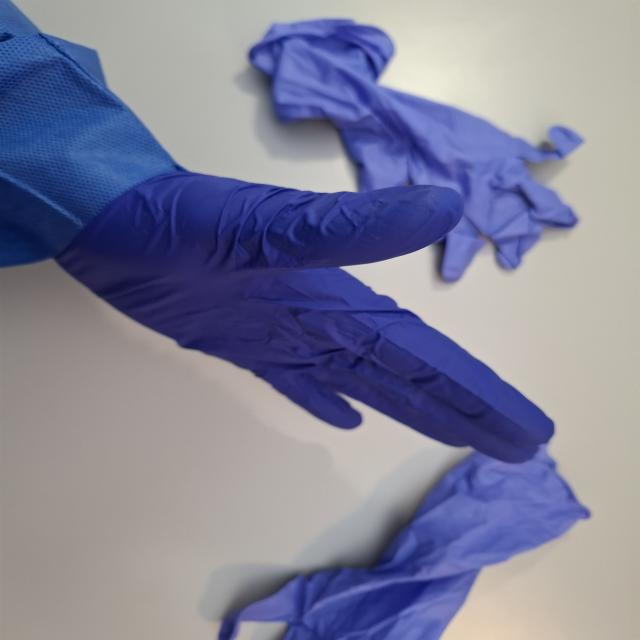glove_on: (44, 154, 558, 466)
